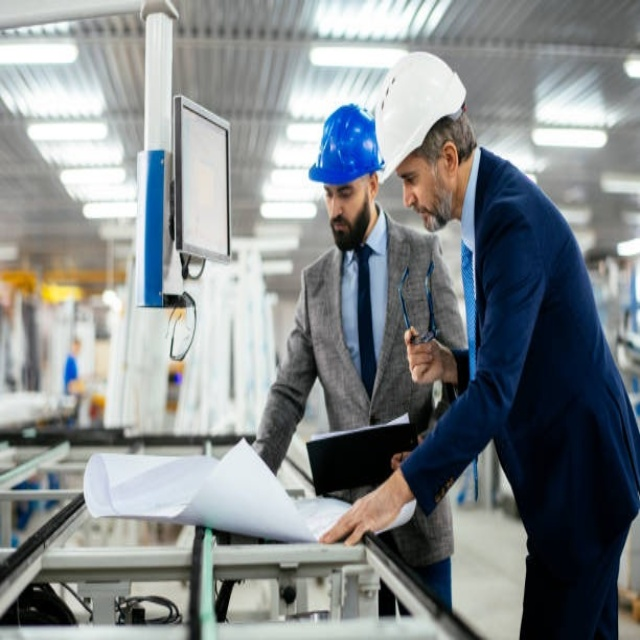Sin_gafas: (390, 163, 430, 193), (322, 182, 360, 210)
Sin_guantes: (315, 474, 398, 547), (404, 318, 448, 387)
Sin_mascara: (328, 215, 359, 248), (410, 199, 439, 234)
